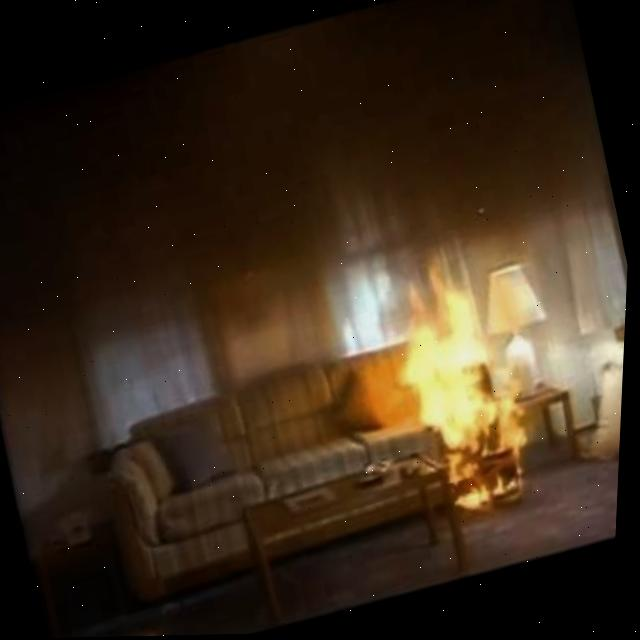fire: (373, 235, 566, 538)
smoke: (0, 0, 630, 639)
